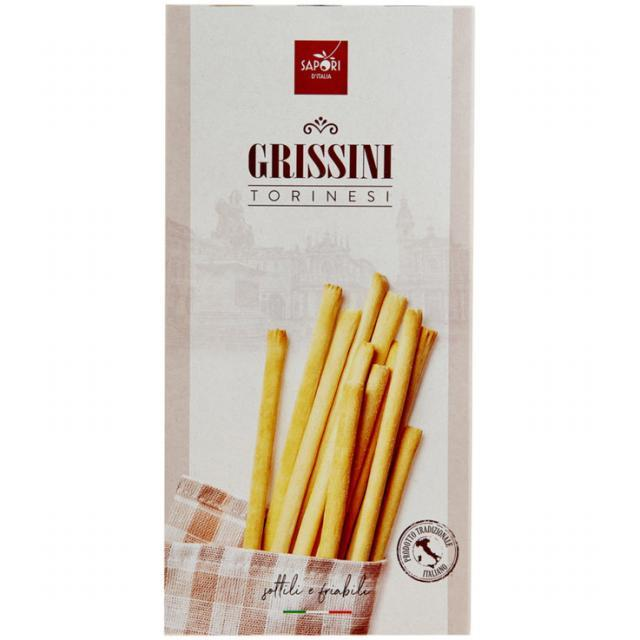Grissini: (244, 272, 436, 574)
